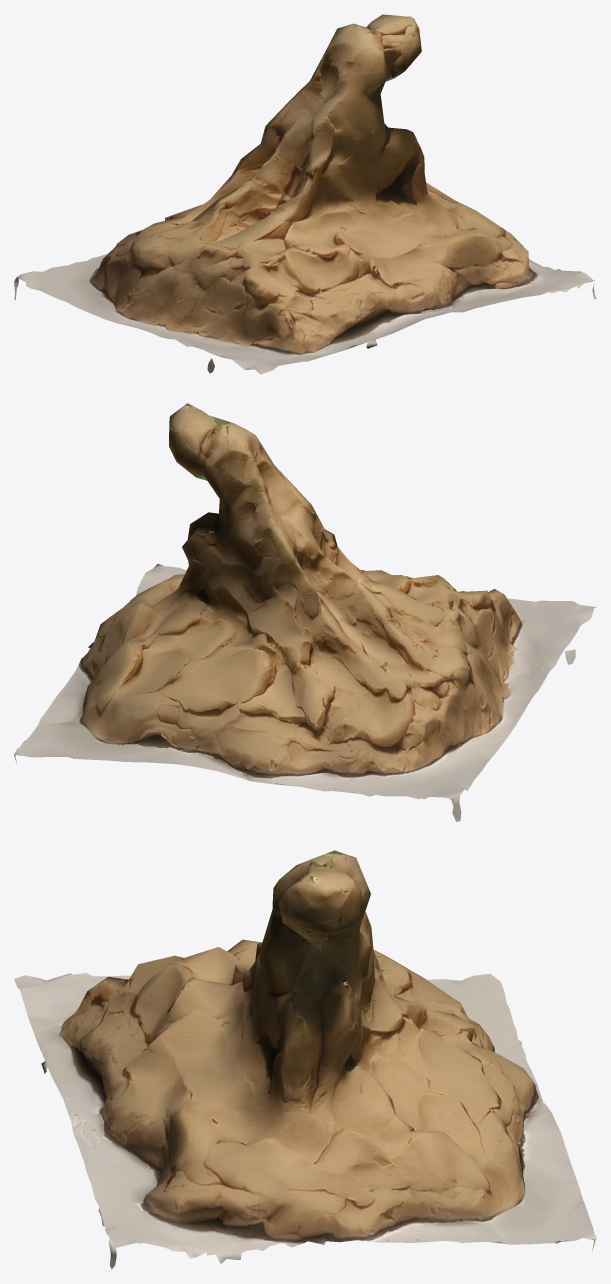
The model's file is GPGre_MamanLOD12.fbx.
3 renders of one model, top to bottom at view 1: azimuth 30°, elevation 25°; view 2: azimuth 150°, elevation 25°; view 3: azimuth 270°, elevation 25°, orthographic. The views are drawn at different scales.
Visible parts, largest first — view 1: Model; view 2: Model; view 3: Model.
Boxes of the visible parts, box(x1,y1,x2,y2) form: Model: box(14, 14, 596, 374); Model: box(14, 403, 596, 821); Model: box(14, 850, 596, 1269).
Size of the model in its own units: 2.36 by 1.4 by 2.14.
